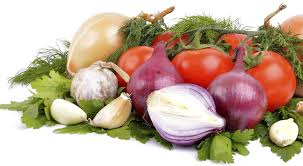onion: (146, 83, 226, 151), (208, 47, 267, 132)
